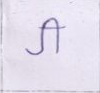i_matra: (47, 17, 63, 55)
